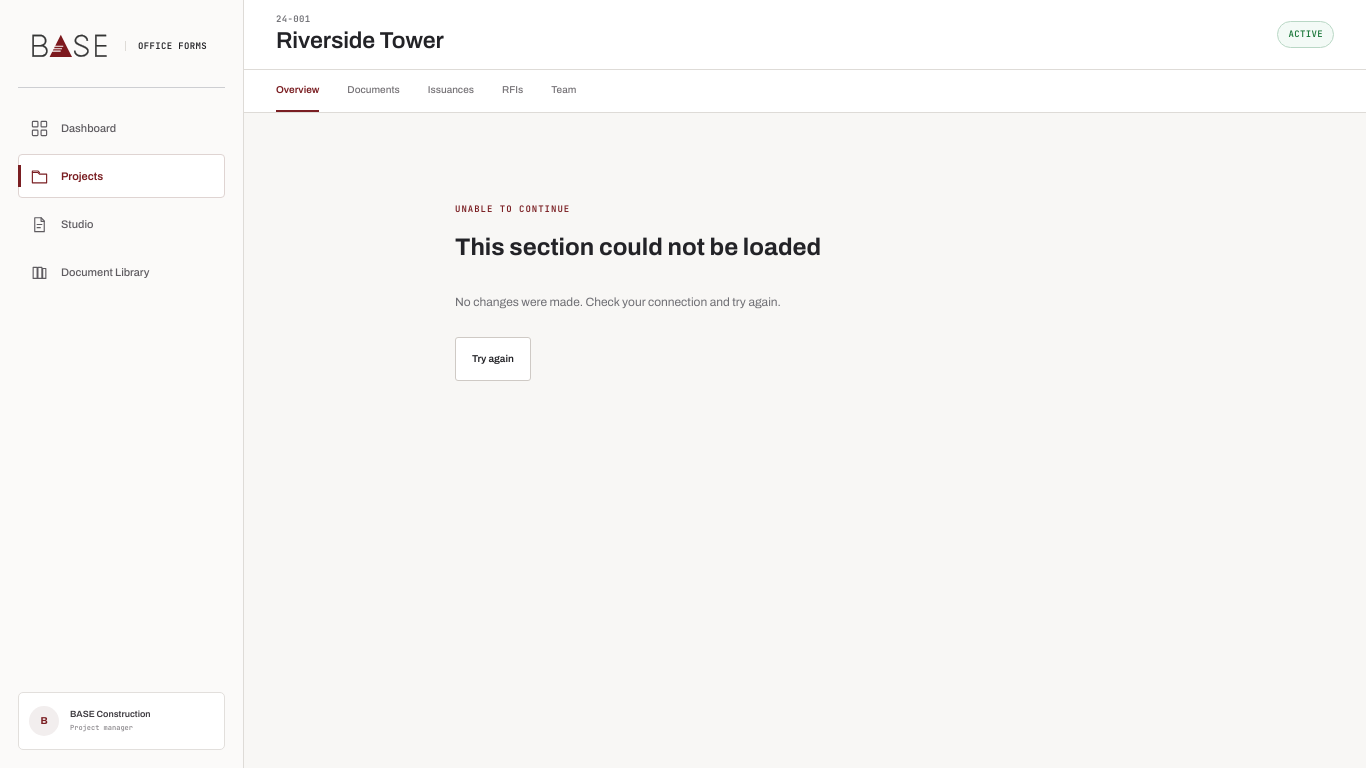
Test: Compatibility-module loading failure handling › shows the shared error surface when the API client import rejects, and recovers on retry
The width and height of the screenshot is (1366, 768).
Expected: the heading "This section could not be loaded" is shown, [455,234,821,260]
Step 1. Click the button "Try again" → (493, 359), box [455,337,531,381]
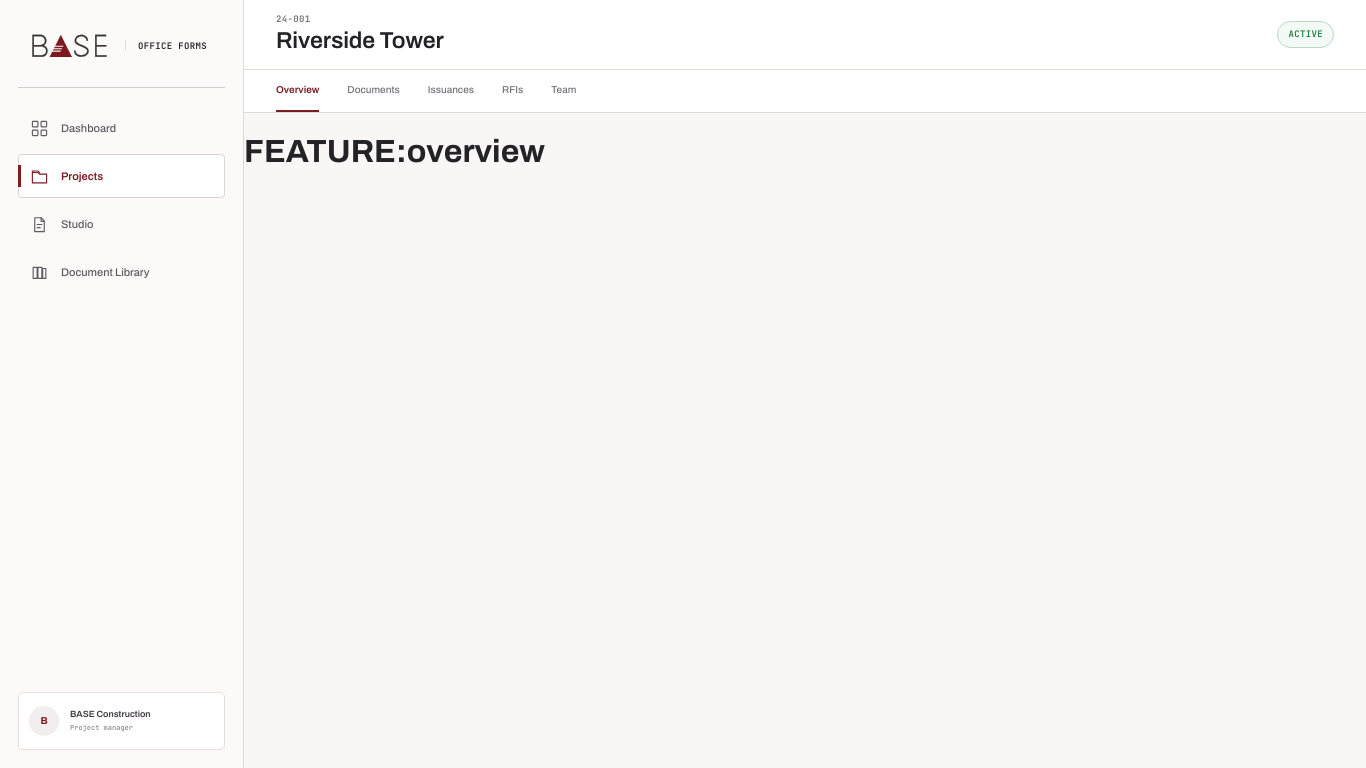
Result: the heading "FEATURE:overview" is shown at [244,134,545,169]
